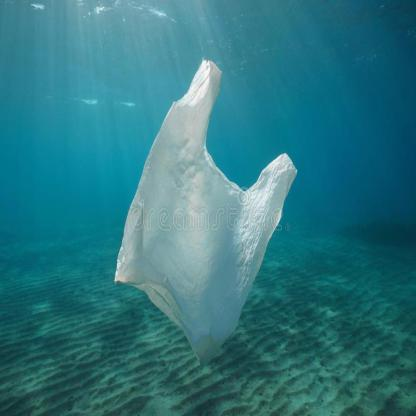plastic-bag: (115, 59, 298, 361)
